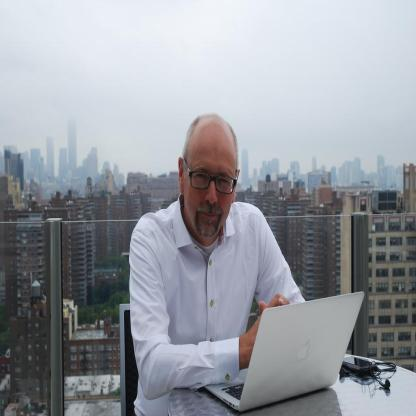board: (221, 259, 371, 400)
